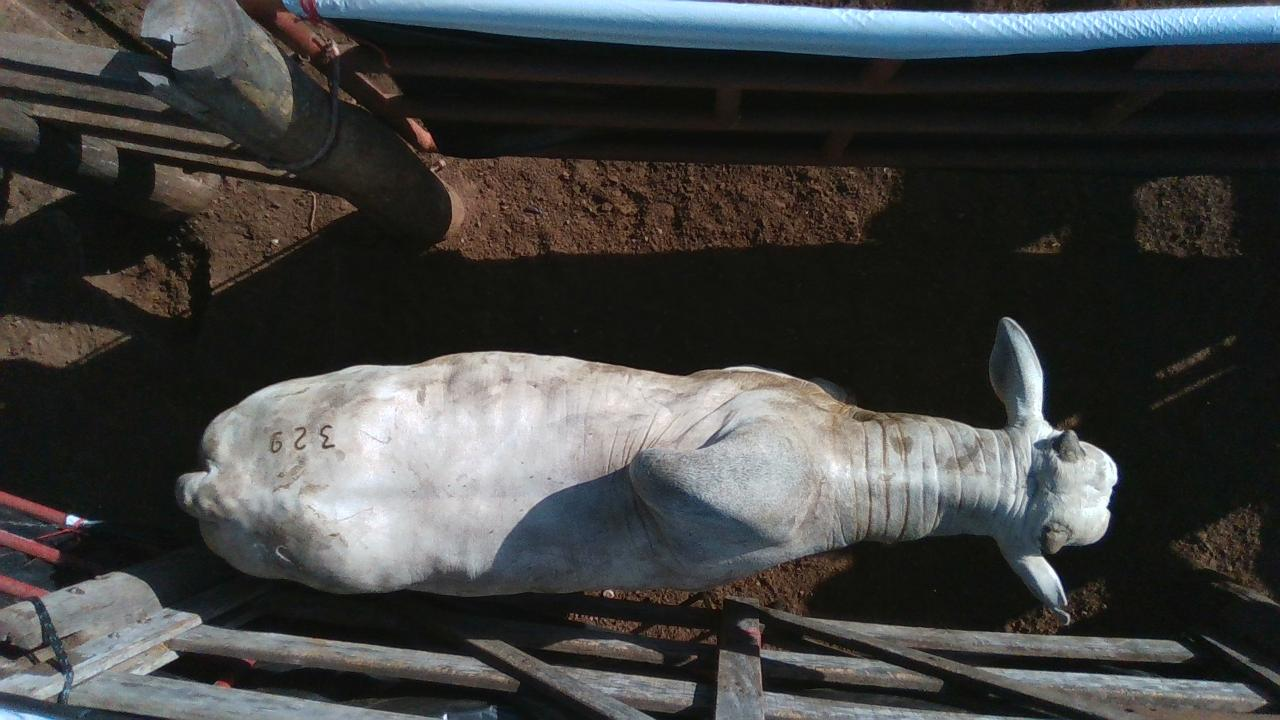cattle: (174, 315, 1119, 628)
